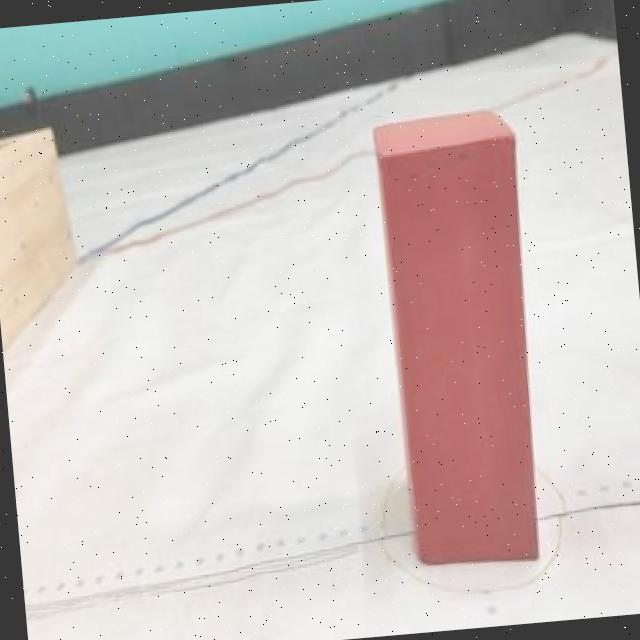redbox: (372, 103, 550, 574)
